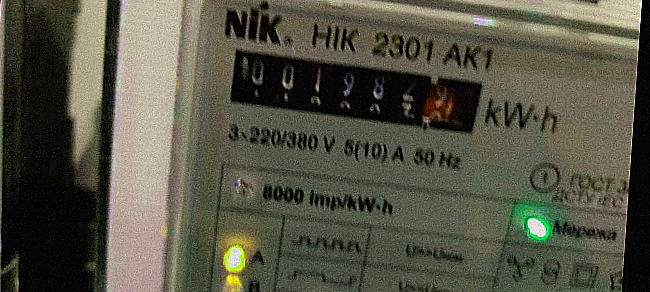0: (278, 61, 297, 91), (248, 56, 266, 86)
1: (310, 63, 323, 93)
2: (399, 72, 419, 103)
8: (369, 71, 387, 100)
9: (430, 80, 452, 110), (338, 68, 355, 98)
screen: (211, 33, 498, 149)
